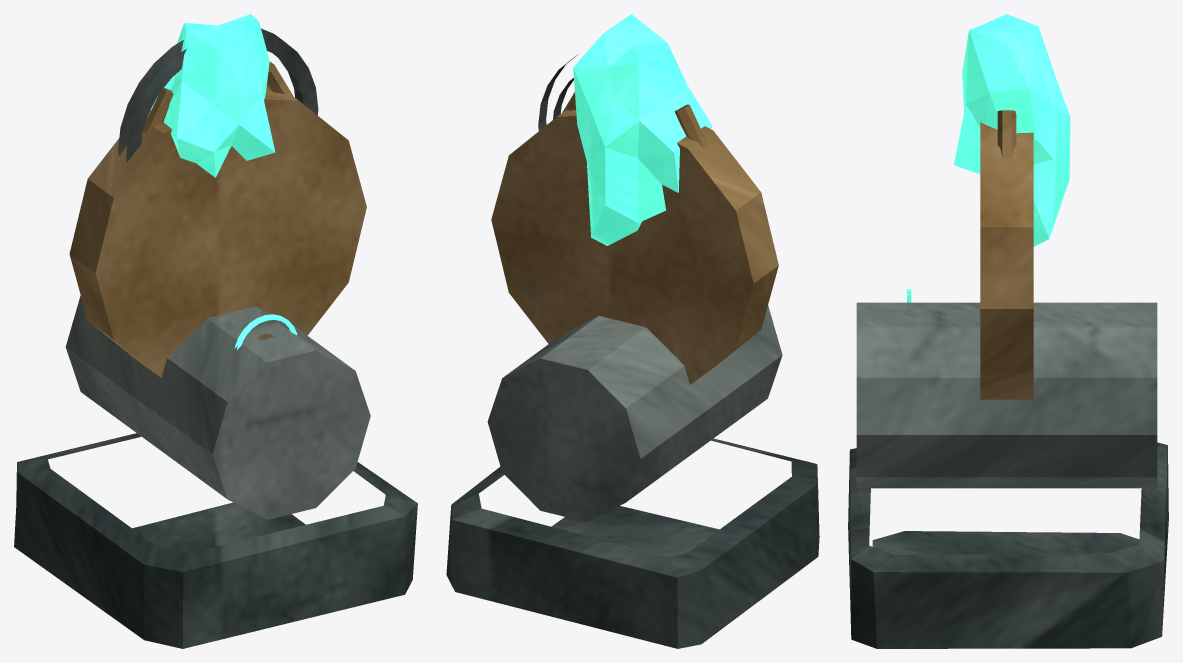
The model's file is 0590_relic_pedestal_15.glb.
3 views of the same model, side by side, from view 1: azimuth 30°, elevation 25°; view 2: azimuth 150°, elevation 25°; view 3: azimuth 270°, elevation 25° (orthographic). The views are drawn at different scales.
Parts seen in each view (by area): view 1: brass, stone_dark, stone, glow, iron; view 2: brass, stone_dark, stone, glow, iron; view 3: stone, stone_dark, brass, glow.
Part boxes in pixels (x1,y1,x2,y2): brass: [69, 61, 366, 377]; stone_dark: [14, 433, 417, 648]; stone: [65, 295, 370, 519]; glow: [150, 14, 297, 349]; iron: [118, 28, 318, 161]; brass: [491, 92, 778, 384]; stone_dark: [446, 438, 819, 648]; stone: [487, 305, 782, 522]; glow: [573, 14, 712, 245]; iron: [538, 55, 577, 130]; stone: [856, 302, 1157, 488]; stone_dark: [848, 442, 1168, 648]; brass: [907, 110, 1033, 399]; glow: [907, 14, 1070, 302].
Size of the model in its own units: 0.9627 by 1.89 by 0.9612.
5 materials, 5 textured.
